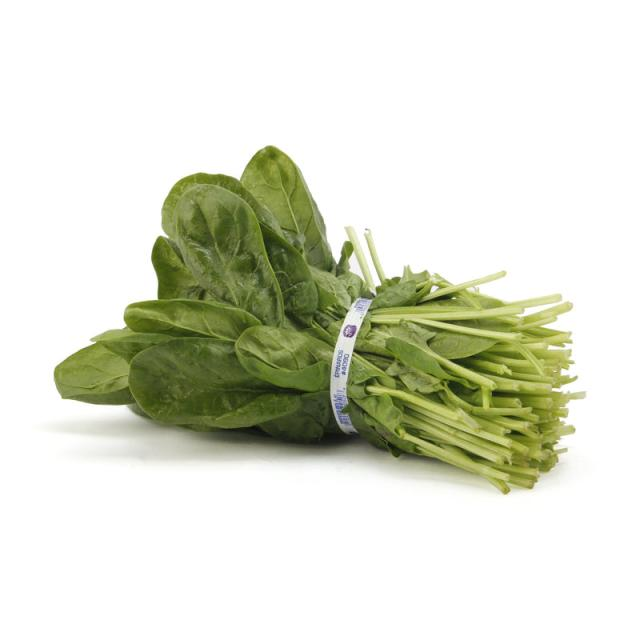spinach: (34, 137, 612, 503)
